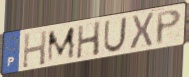H: (75, 19, 102, 60), (21, 29, 48, 70)
M: (46, 25, 77, 65)
P: (155, 8, 183, 47)
U: (102, 16, 129, 54)
X: (129, 11, 155, 52)
